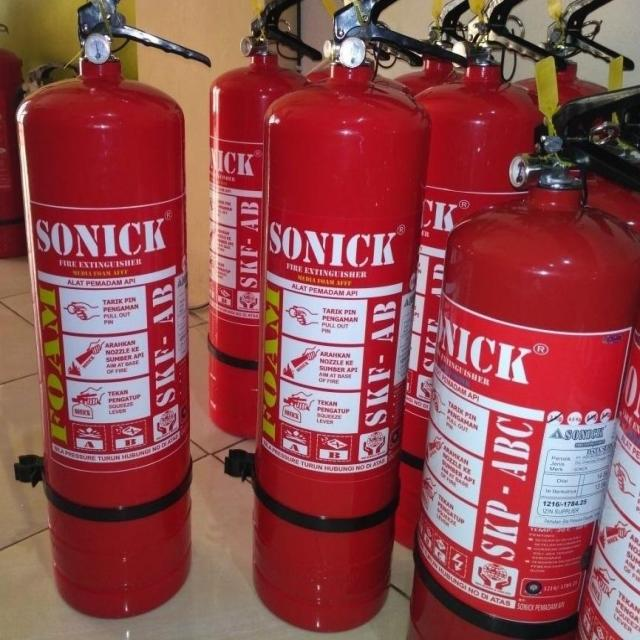fire_extinguisher: (403, 44, 640, 638), (12, 0, 213, 623), (246, 0, 435, 635), (338, 0, 546, 569), (466, 0, 640, 477), (350, 0, 535, 446), (204, 0, 330, 447), (542, 47, 640, 609), (566, 251, 639, 639), (0, 13, 30, 260)
